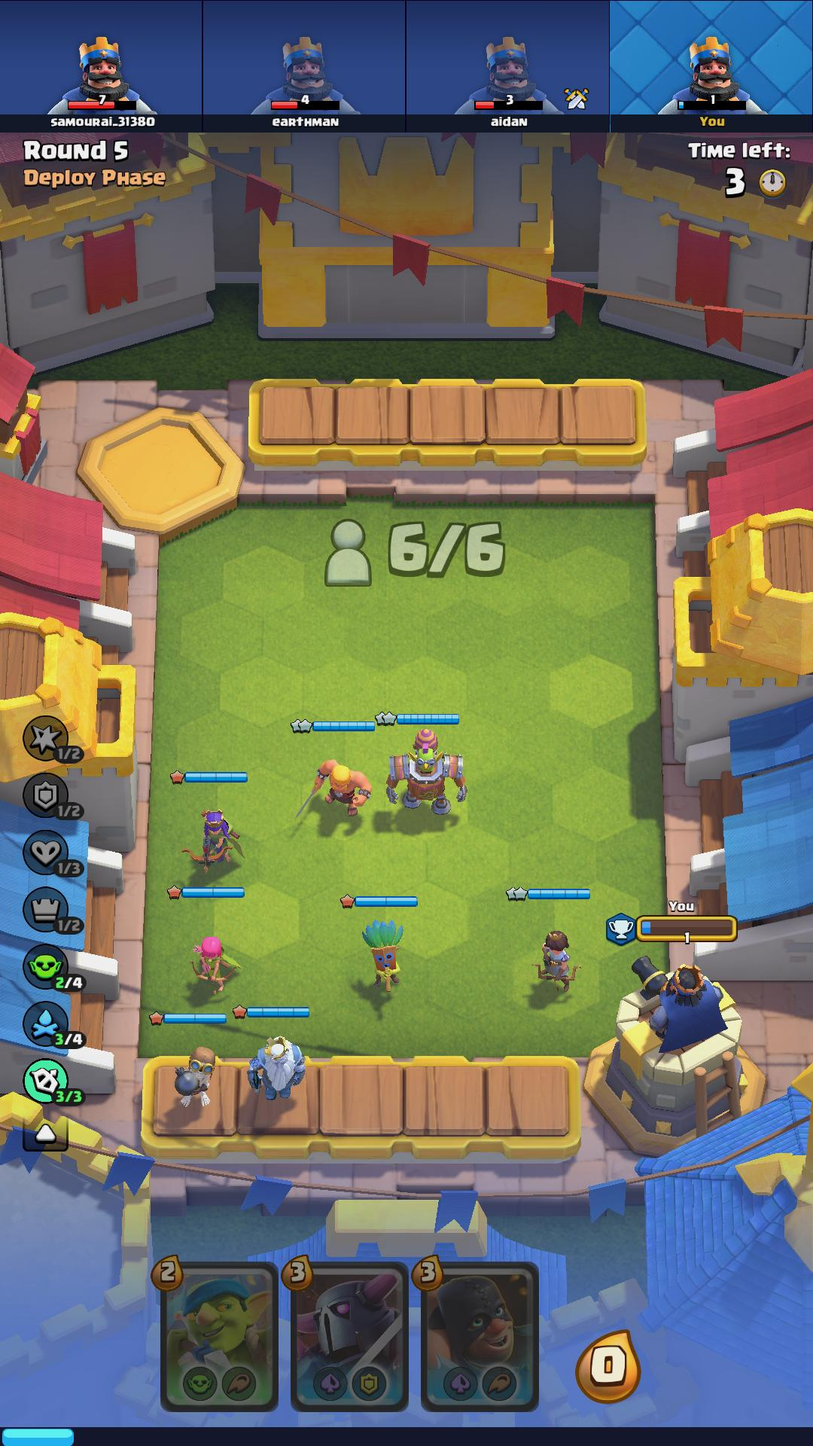archer: (183, 920, 240, 1002)
barbarian: (295, 753, 374, 827)
bomber: (163, 1033, 226, 1115)
dart: (351, 914, 412, 1002)
ghost: (242, 1027, 312, 1110)
hand-executioner: (424, 1264, 536, 1410)
hand-pekka: (292, 1264, 409, 1410)
hand-spear: (162, 1265, 276, 1410)
machine: (381, 731, 469, 820)
princess: (528, 921, 577, 1000)
queen: (176, 801, 242, 882)
